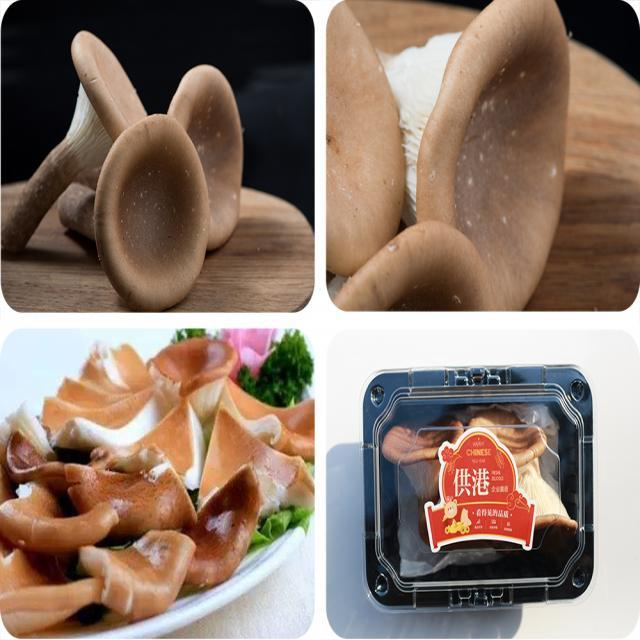Clitocybe maxima: (9, 342, 295, 619), (393, 8, 568, 303), (10, 33, 150, 257), (96, 111, 206, 299), (328, 6, 406, 267), (174, 63, 247, 245)
